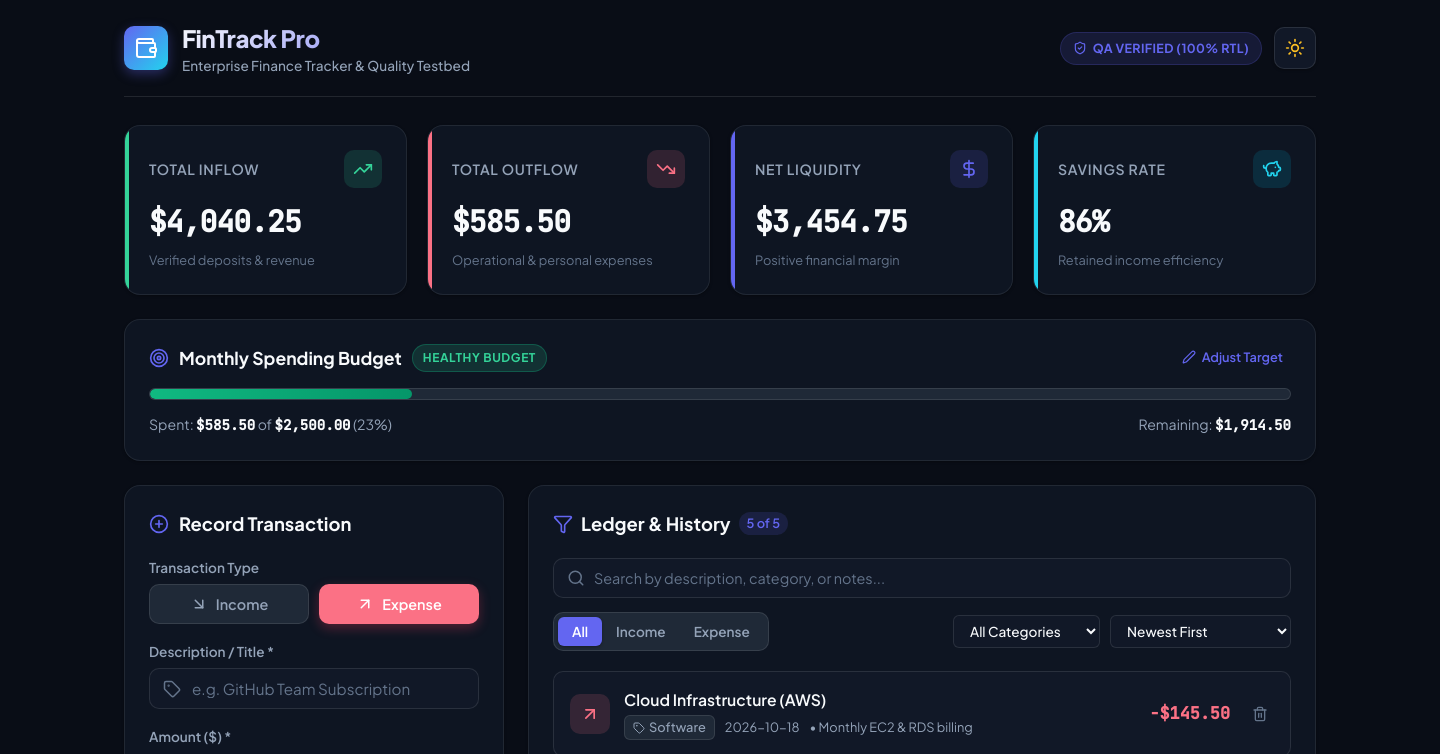
FinTrack Pro Integration Suite › filters transactions by type when filter buttons are toggled
Note: Filter by "Income"
Click the button with test id "filter-type-income". click: (641, 631)
box: [602, 617, 680, 646]
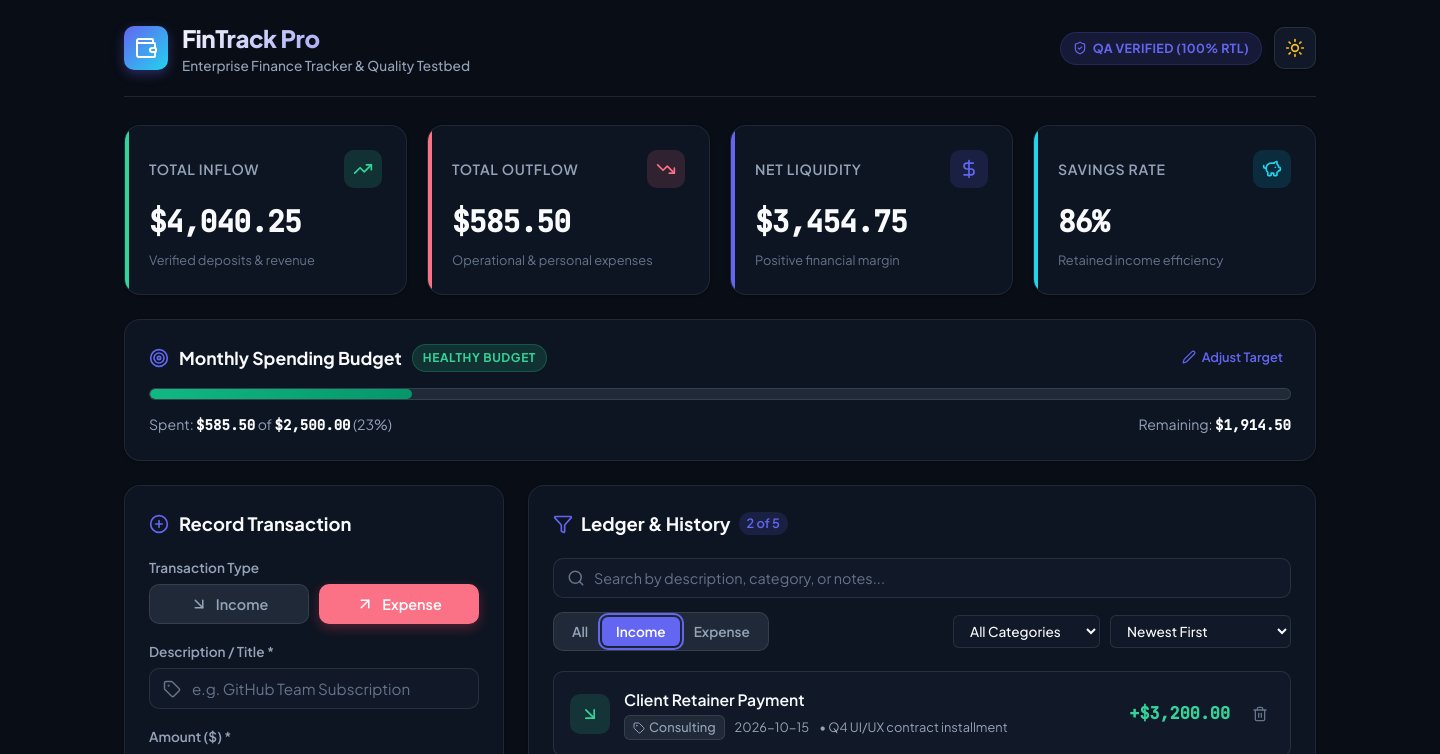
Expected: the text "Client Retainer Payment" is shown, [624, 690, 805, 709]
Expected: the text "Cloud Infrastructure (AWS)" is gone
Note: Toggle back to "All"
Click the button with test id "filter-type-all". click: (580, 631)
box: [558, 617, 602, 646]
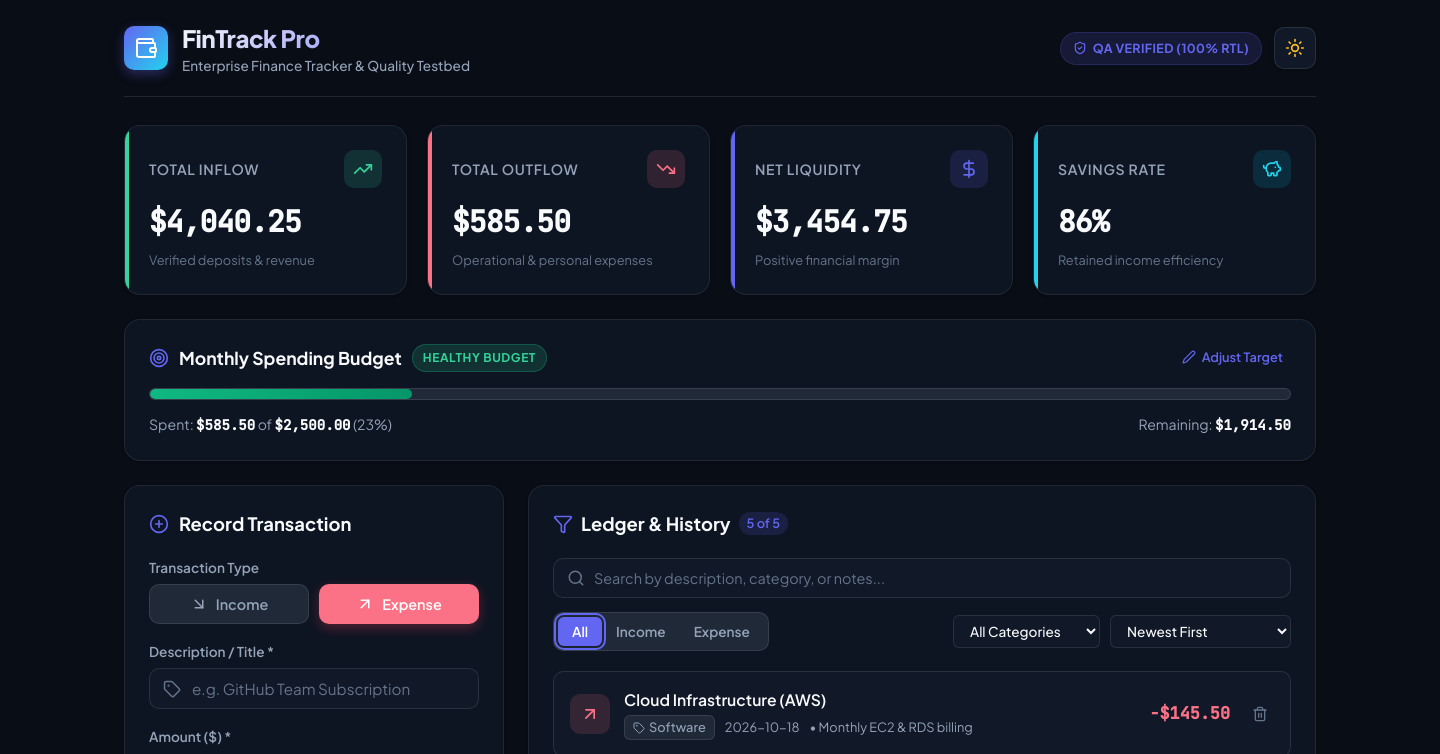
Expected: the text "Cloud Infrastructure (AWS)" is shown, [624, 690, 826, 709]
